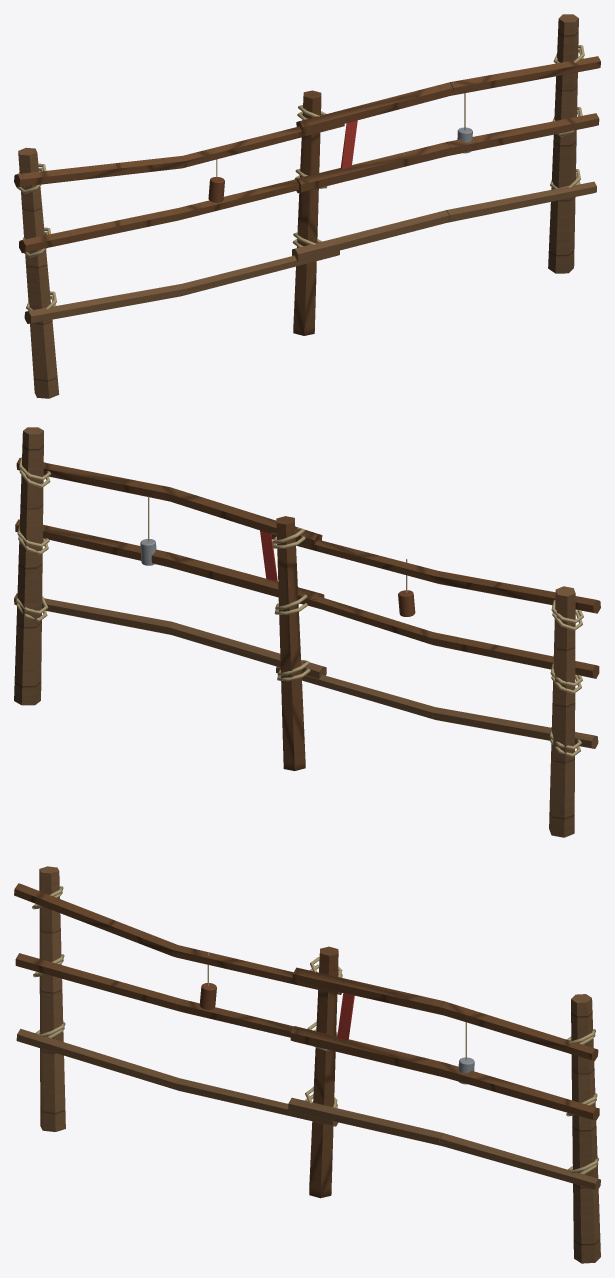
File: pole_fence.glb
3 renders of one model, top to bottom at view 1: azimuth 30°, elevation 25°; view 2: azimuth 150°, elevation 25°; view 3: azimuth 330°, elevation 25°, orthographic. The views are drawn at different scales.
Visible parts, largest first — view 1: pole_fence; view 2: pole_fence; view 3: pole_fence.
Boxes of the visible parts, bbox=[...] form: pole_fence: bbox=[14, 14, 600, 398]; pole_fence: bbox=[14, 427, 600, 837]; pole_fence: bbox=[14, 866, 600, 1263].
Bounding box in the file's own units: 3.21 × 1.38 × 0.3038.
Materials: 6 (6 with a texture image).
